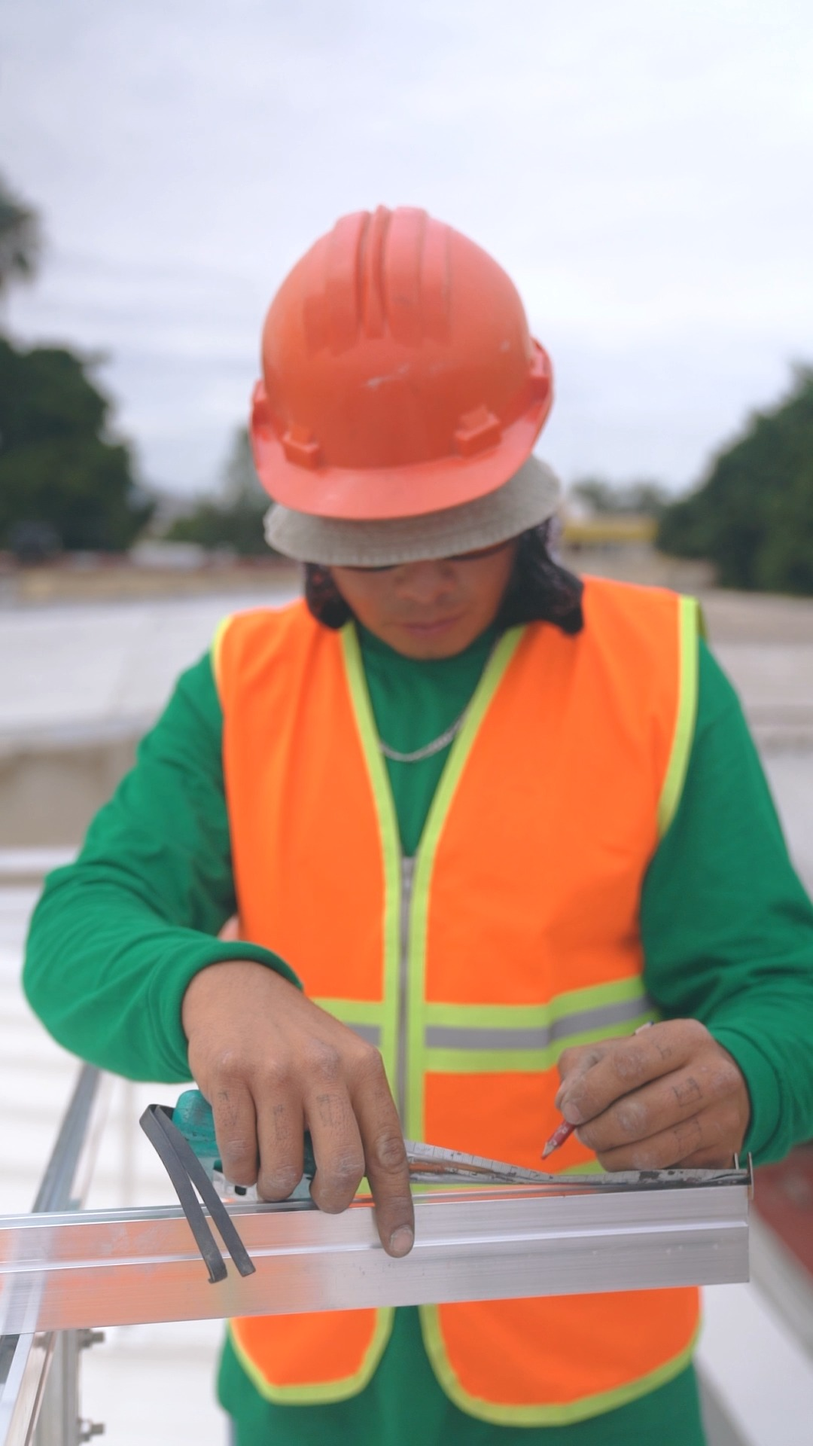No-gloves: (181, 946, 461, 1278), (511, 953, 755, 1218)
